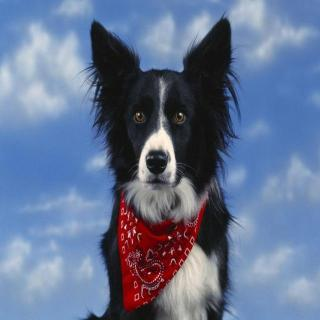dog: (81, 9, 243, 230)
nose: (145, 146, 170, 178)
